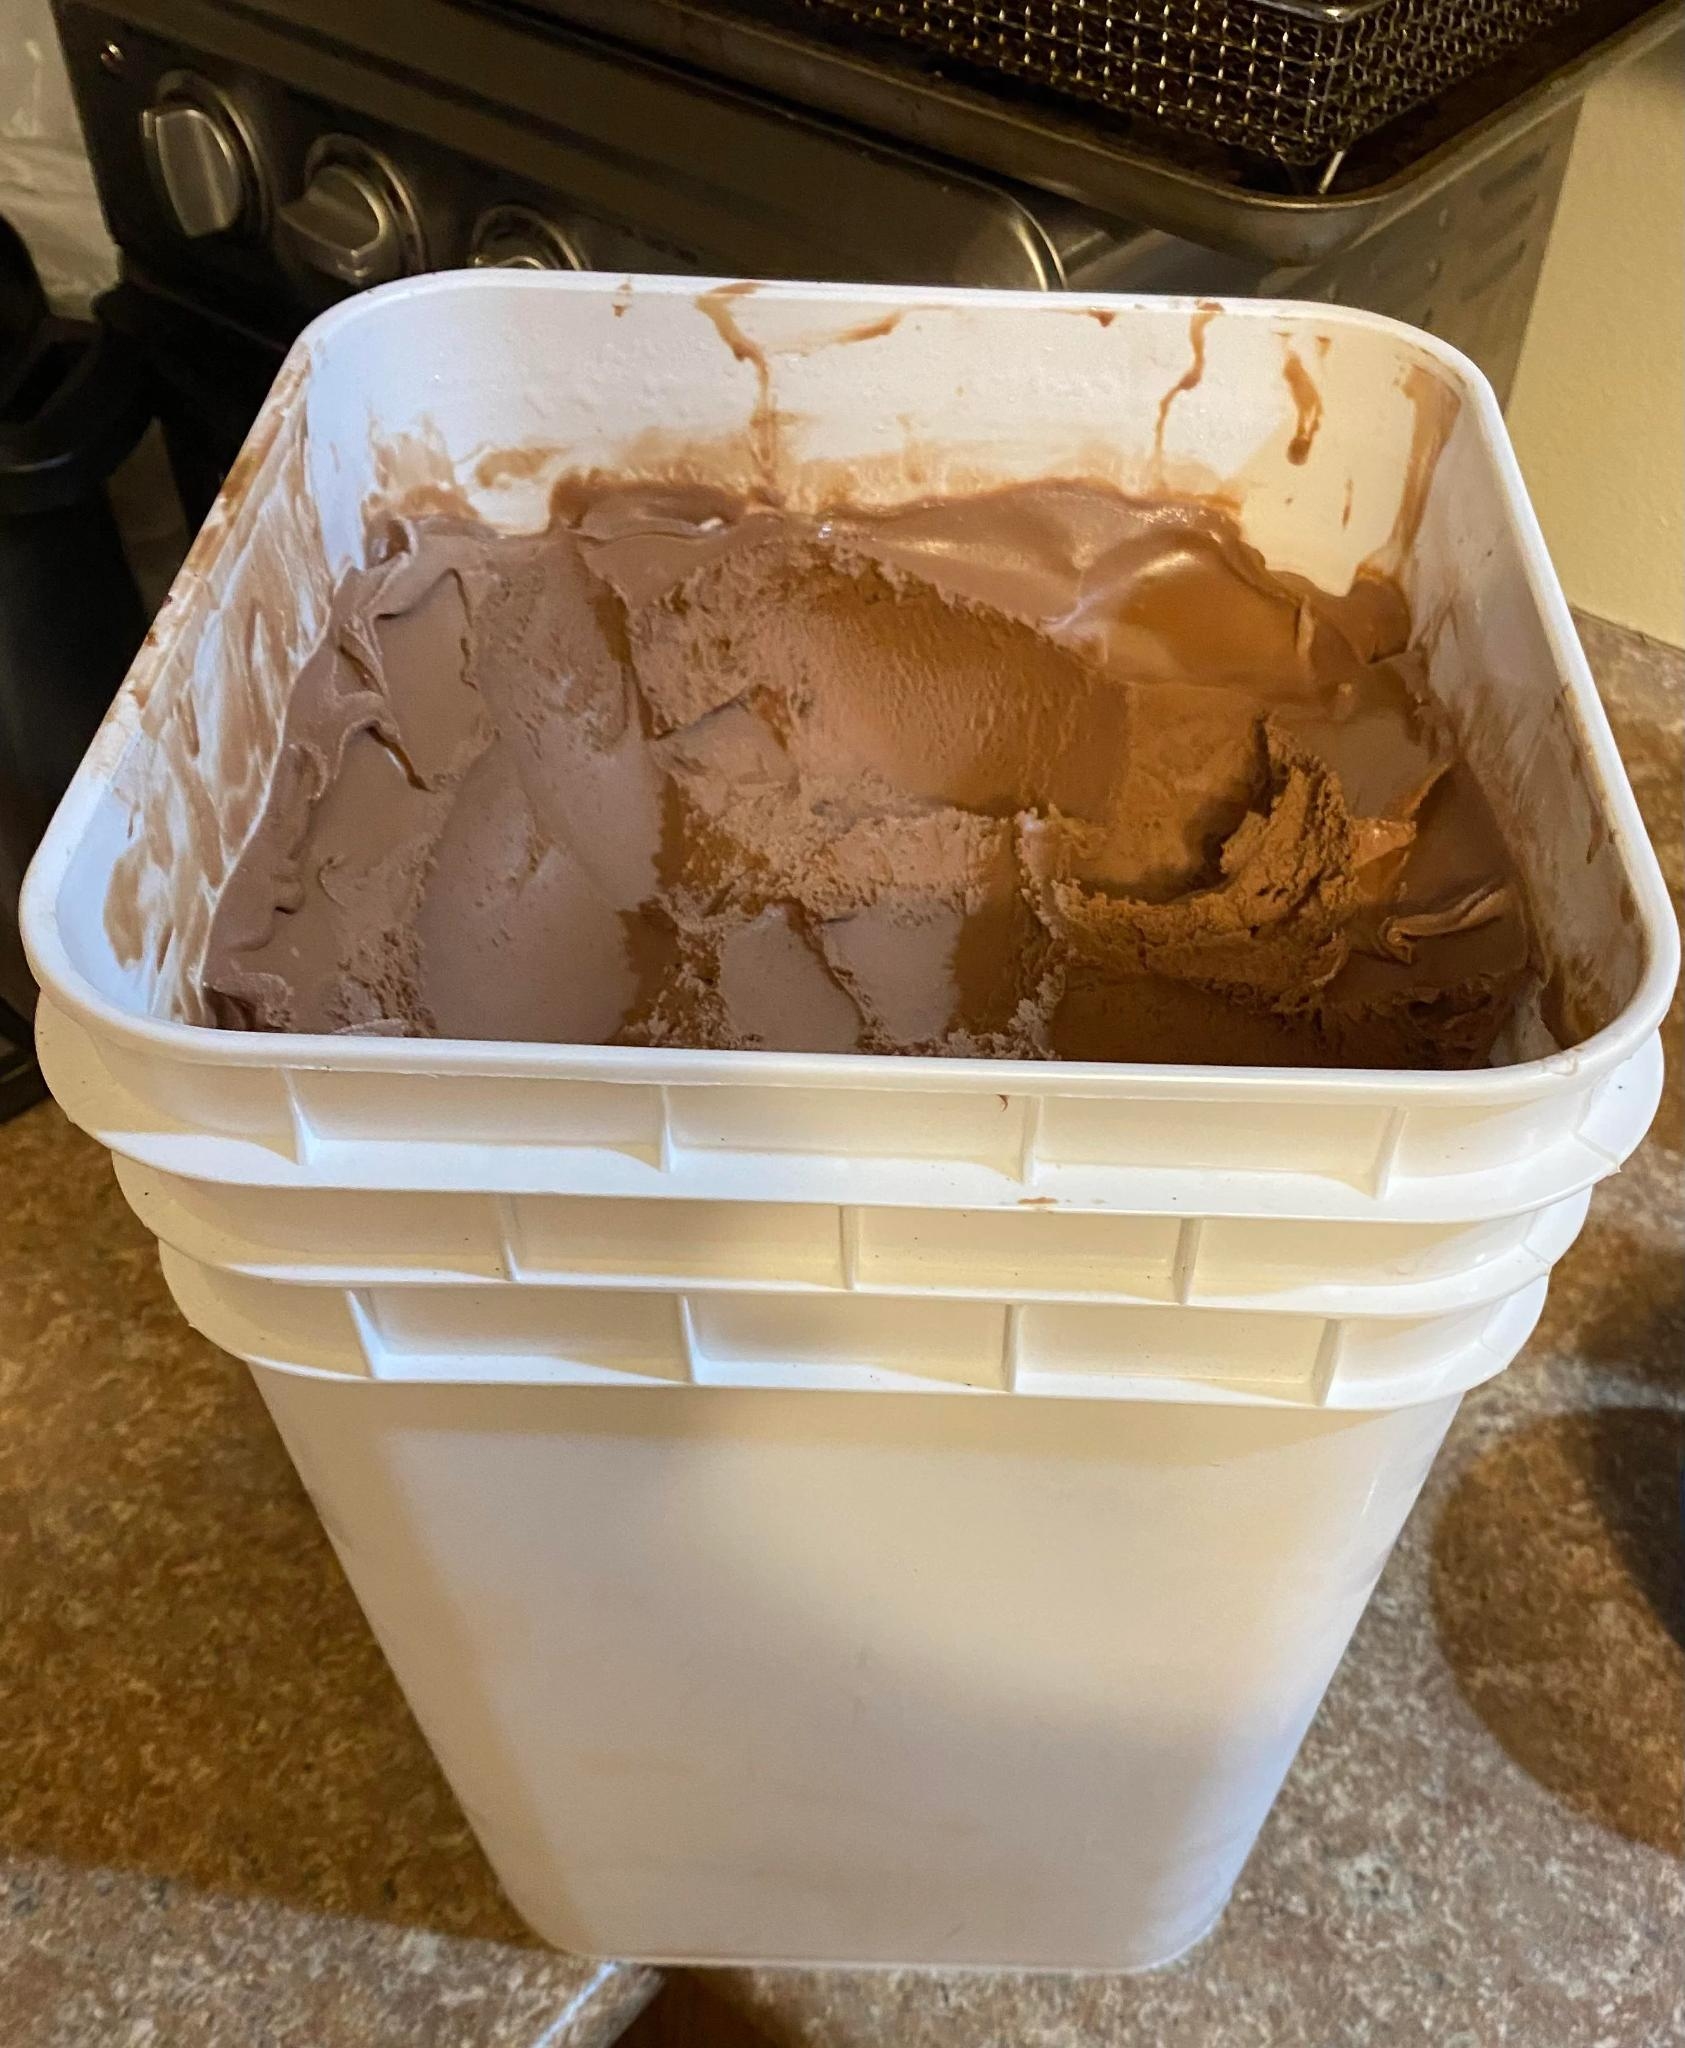plastic: (0, 1106, 1676, 2046), (27, 272, 1668, 1068)
